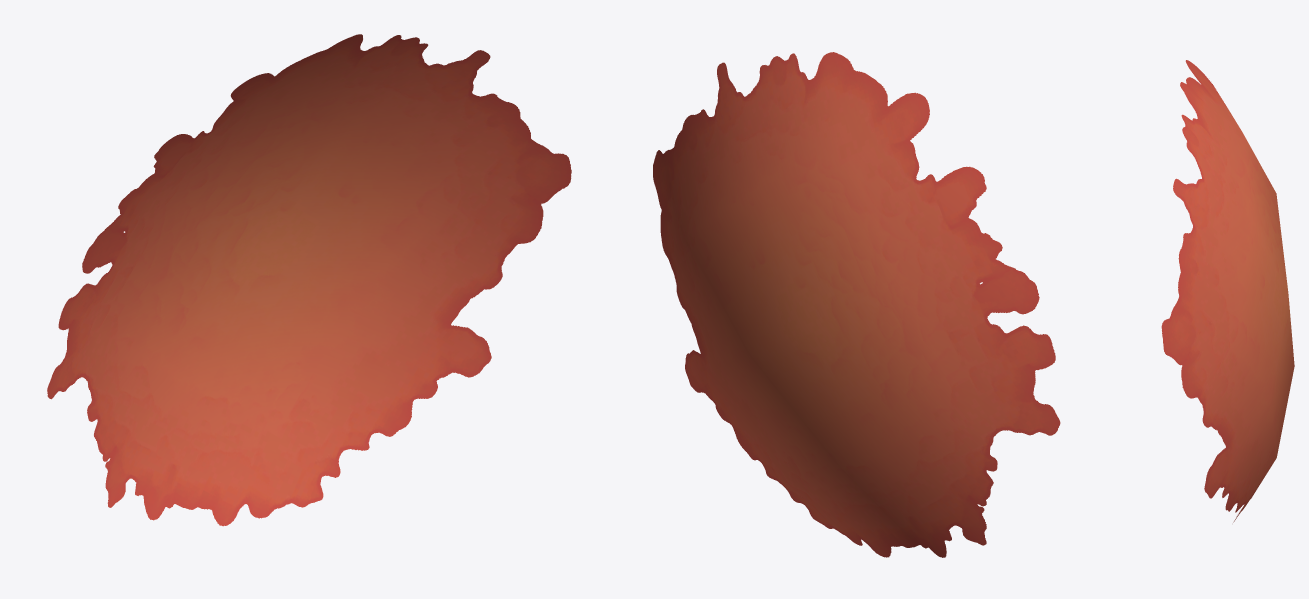
Rendered from ForestCanopy_Autumn.fbx.
The picture shows the model from 3 angles, left to right: view 1: azimuth 30°, elevation 25°; view 2: azimuth 150°, elevation 25°; view 3: azimuth 270°, elevation 25°; orthographic projection. The views are drawn at different scales.
Parts seen in each view (by area): view 1: ForestCanopy_Autumn; view 2: ForestCanopy_Autumn; view 3: ForestCanopy_Autumn.
Boxes of the visible parts, <box> form: ForestCanopy_Autumn: <box>47,34,571,526</box>; ForestCanopy_Autumn: <box>653,52,1060,557</box>; ForestCanopy_Autumn: <box>1161,60,1294,522</box>.
Bounding box in the file's own units: 4783 × 4973 × 1273.
Materials: 1 (1 with a texture image).
